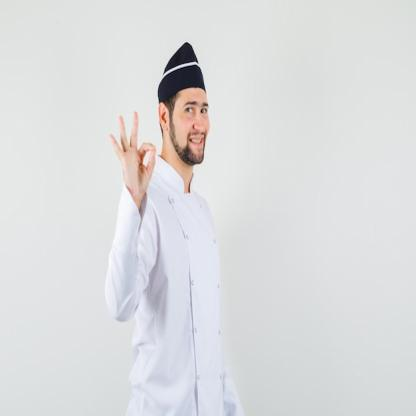ok: (106, 104, 159, 204)
